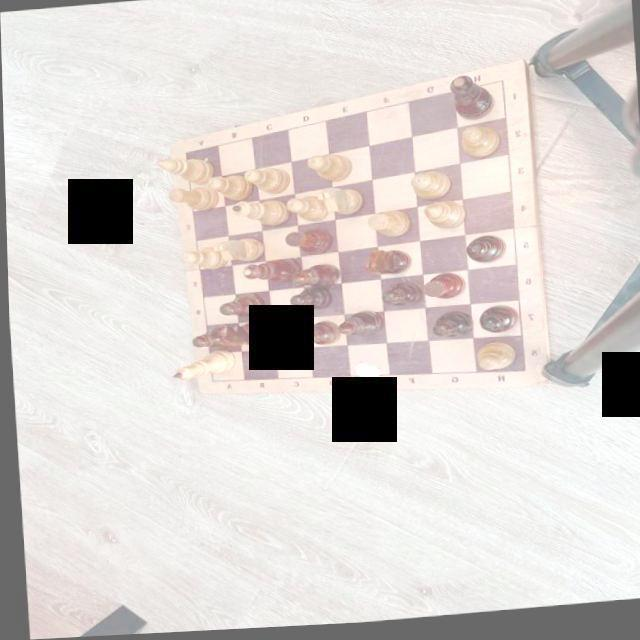chess-table-corners: (496, 81, 507, 89), (204, 378, 214, 386), (516, 372, 528, 378), (180, 150, 190, 156)
